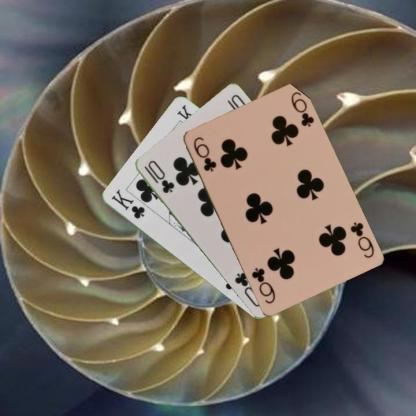10c: (141, 157, 176, 195)
6c: (347, 219, 375, 259), (190, 134, 218, 173)
Kc: (109, 186, 146, 221)
